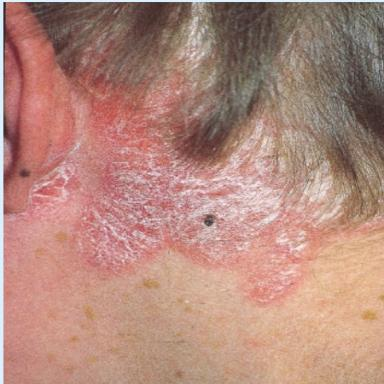Psoriasis: (3, 4, 382, 302), (97, 19, 157, 60)
